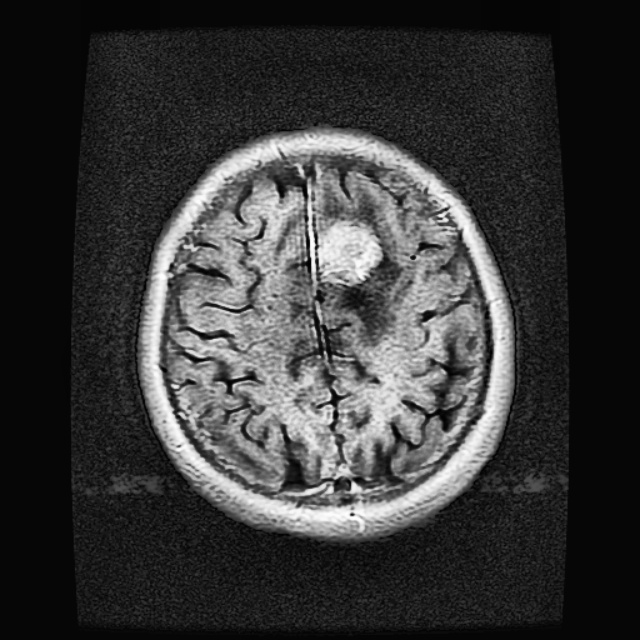Glioma: (320, 219, 377, 279)
